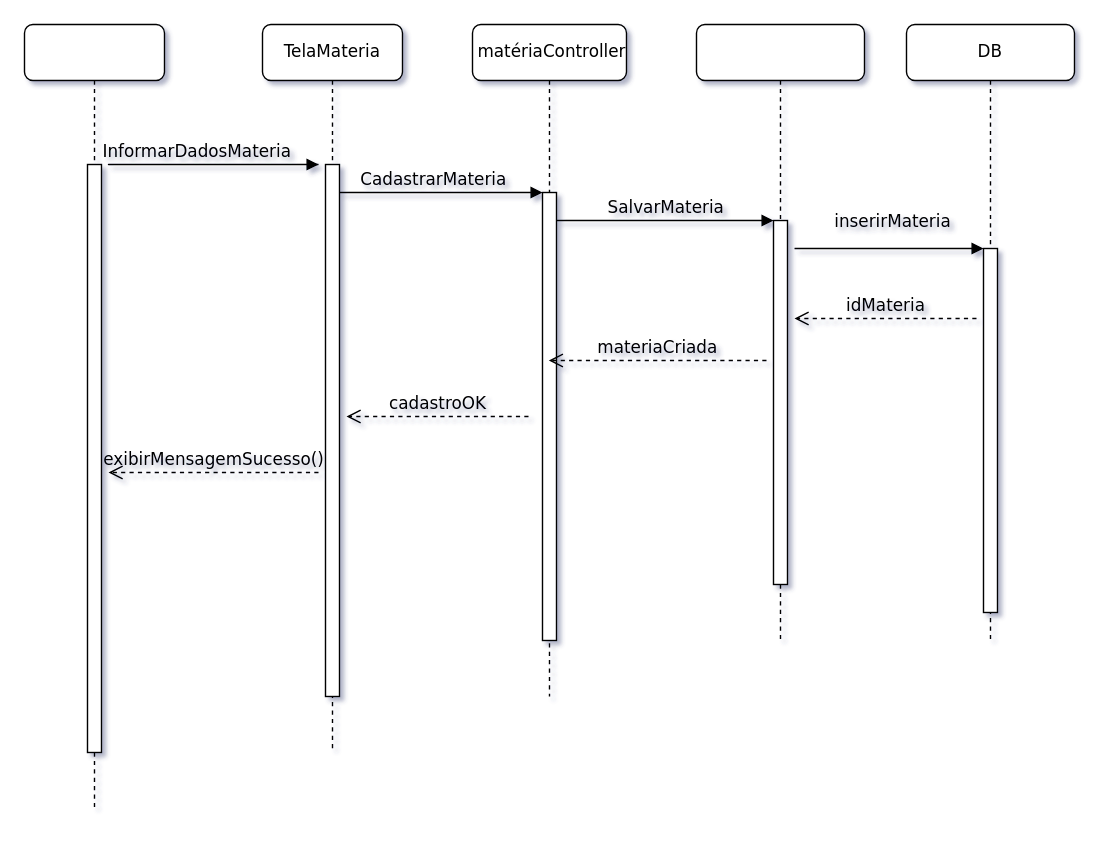
Image size: 1107x841. Some labels were removed from this diagram. The shapes that lost their labels are listed below. From the top down, each one's box as (x1, y1, x2, y2) in pixels, then its label:
(695, 23, 864, 640): MateriaRepository
(23, 23, 164, 808): Usuário
